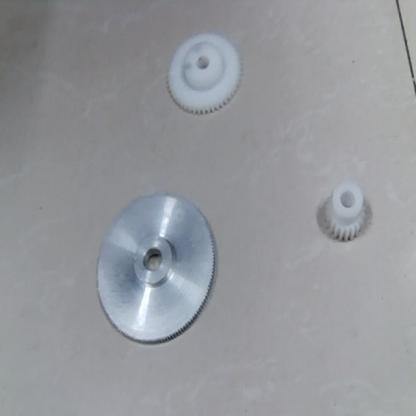FOD: (94, 186, 219, 353), (164, 31, 244, 119), (317, 176, 371, 245)
